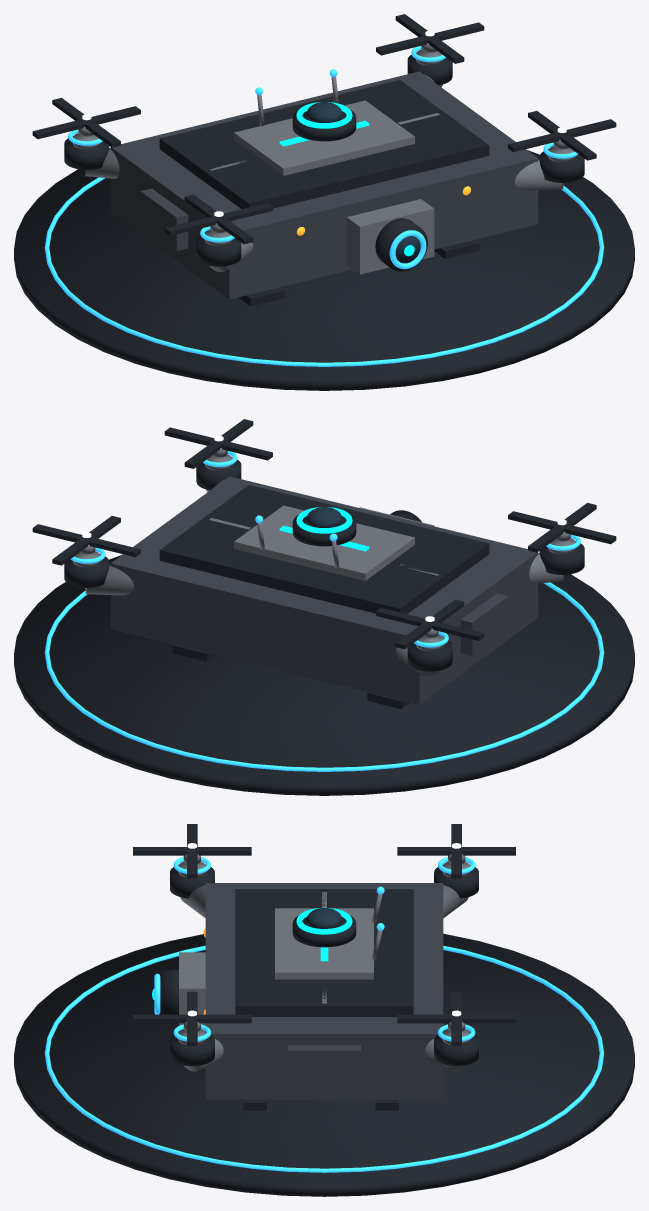
The model's file is Smart_Inspection_Drone.glb.
3 renders of one model, top to bottom at view 1: azimuth 30°, elevation 25°; view 2: azimuth 150°, elevation 25°; view 3: azimuth 270°, elevation 25°, orthographic.
Visible parts, largest first — view 1: DISPLAY_PLATFORM, MAIN_DRONE_BODY, UPPER_ARMOR, TOP_TECH_PANEL, PLATFORM_LED_RING, CAMERA_MOUNT, SIDE_ARM_PANEL, INSPECTION_CAMERA, RADAR_BASE, MOTOR_1, MOTOR_3, MOTOR_2 (+6 smaller); view 2: DISPLAY_PLATFORM, MAIN_DRONE_BODY, UPPER_ARMOR, TOP_TECH_PANEL, PLATFORM_LED_RING, SIDE_ARM_PANEL, MOTOR_2, MOTOR_4, RADAR_BASE, MOTOR_1, ARM_4, MOTOR_3 (+3 smaller); view 3: DISPLAY_PLATFORM, MAIN_DRONE_BODY, UPPER_ARMOR, PLATFORM_LED_RING, TOP_TECH_PANEL, SIDE_ARM_PANEL.001, CAMERA_MOUNT, RADAR_BASE, MOTOR_3, MOTOR_4, INSPECTION_CAMERA, MOTOR_1 (+7 smaller).
Part boxes in pixels (bbox=[...]): DISPLAY_PLATFORM: bbox=[14, 150, 634, 390]; MAIN_DRONE_BODY: bbox=[110, 71, 538, 299]; UPPER_ARMOR: bbox=[159, 80, 489, 208]; TOP_TECH_PANEL: bbox=[234, 100, 414, 175]; PLATFORM_LED_RING: bbox=[44, 177, 604, 366]; CAMERA_MOUNT: bbox=[346, 199, 434, 274]; SIDE_ARM_PANEL: bbox=[140, 188, 188, 250]; INSPECTION_CAMERA: bbox=[375, 218, 427, 271]; RADAR_BASE: bbox=[292, 109, 356, 141]; MOTOR_1: bbox=[196, 233, 241, 266]; MOTOR_3: bbox=[539, 149, 584, 182]; MOTOR_2: bbox=[64, 136, 109, 169]; DISPLAY_PLATFORM: bbox=[14, 555, 634, 795]; MAIN_DRONE_BODY: bbox=[110, 476, 538, 704]; UPPER_ARMOR: bbox=[159, 485, 489, 613]; TOP_TECH_PANEL: bbox=[234, 505, 414, 580]; PLATFORM_LED_RING: bbox=[44, 582, 604, 771]; SIDE_ARM_PANEL: bbox=[460, 593, 508, 655]; MOTOR_2: bbox=[407, 638, 452, 671]; MOTOR_4: bbox=[64, 554, 109, 587]; RADAR_BASE: bbox=[292, 514, 356, 546]; MOTOR_1: bbox=[539, 541, 584, 574]; ARM_4: bbox=[85, 564, 134, 595]; MOTOR_3: bbox=[196, 457, 241, 490]; DISPLAY_PLATFORM: bbox=[14, 933, 634, 1196]; MAIN_DRONE_BODY: bbox=[205, 883, 443, 1099]; UPPER_ARMOR: bbox=[235, 889, 413, 1016]; PLATFORM_LED_RING: bbox=[44, 945, 604, 1172]; TOP_TECH_PANEL: bbox=[275, 908, 373, 979]; SIDE_ARM_PANEL.001: bbox=[288, 1045, 360, 1084]; CAMERA_MOUNT: bbox=[179, 952, 205, 1031]; RADAR_BASE: bbox=[292, 915, 356, 947]; MOTOR_3: bbox=[170, 1032, 214, 1065]; MOTOR_4: bbox=[434, 1032, 478, 1065]; INSPECTION_CAMERA: bbox=[161, 969, 178, 1014]; MOTOR_1: bbox=[170, 865, 214, 898].
Size of the model in its own units: 9.4 by 2.68 by 9.4.
